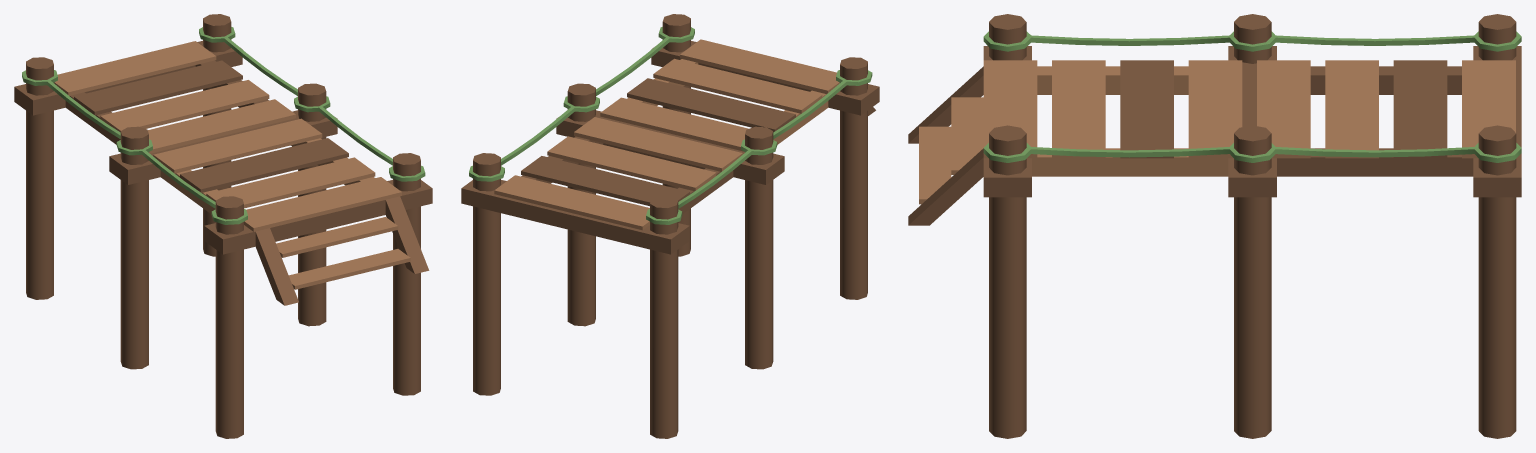
Rendered from Pier_Level_01.fbx.
The picture shows the model from 3 angles, left to right: view 1: azimuth 30°, elevation 25°; view 2: azimuth 150°, elevation 25°; view 3: azimuth 270°, elevation 25°; orthographic projection. The views are drawn at different scales.
Parts seen in each view (by area): view 1: Pier_Level_01; view 2: Pier_Level_01; view 3: Pier_Level_01.
Part boxes in pixels (x1,y1,x2,y2): Pier_Level_01: (14, 14, 432, 438); Pier_Level_01: (461, 14, 879, 438); Pier_Level_01: (908, 14, 1521, 438).
Bounding box in the file's own units: 580 × 610 × 1140.
